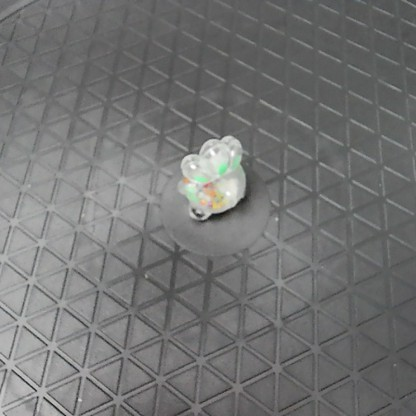whitefish: (175, 129, 252, 223)
